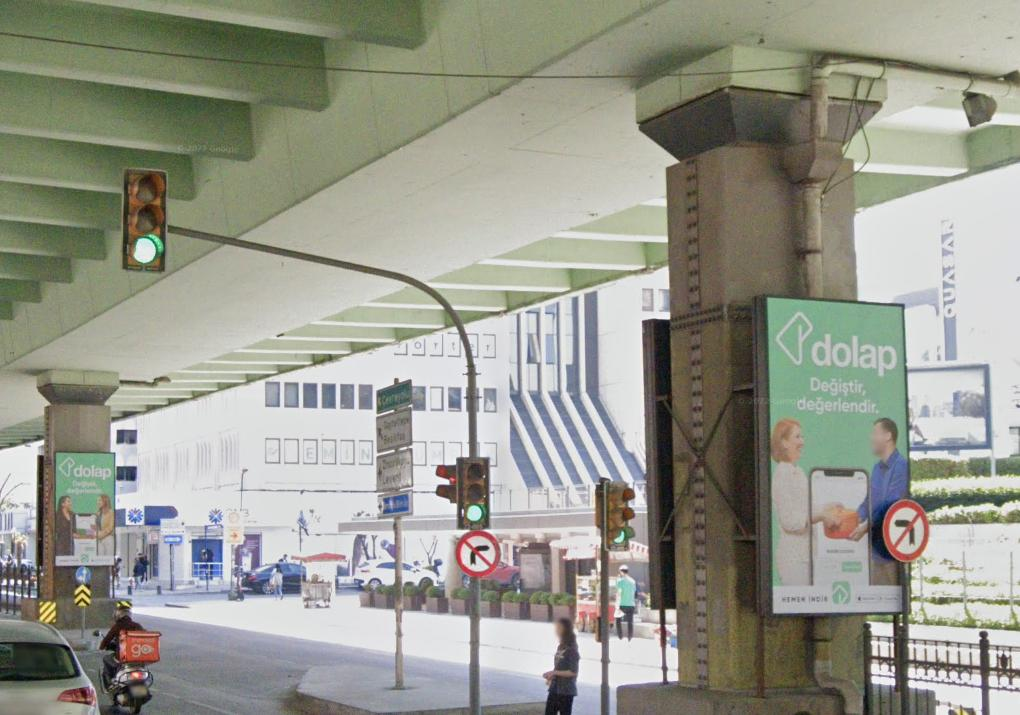greenlight: (125, 169, 168, 270), (455, 461, 487, 527), (603, 483, 632, 551)
leftturnsareforbidden: (886, 497, 930, 561)
rightturnsareforbidden: (459, 533, 501, 576)
